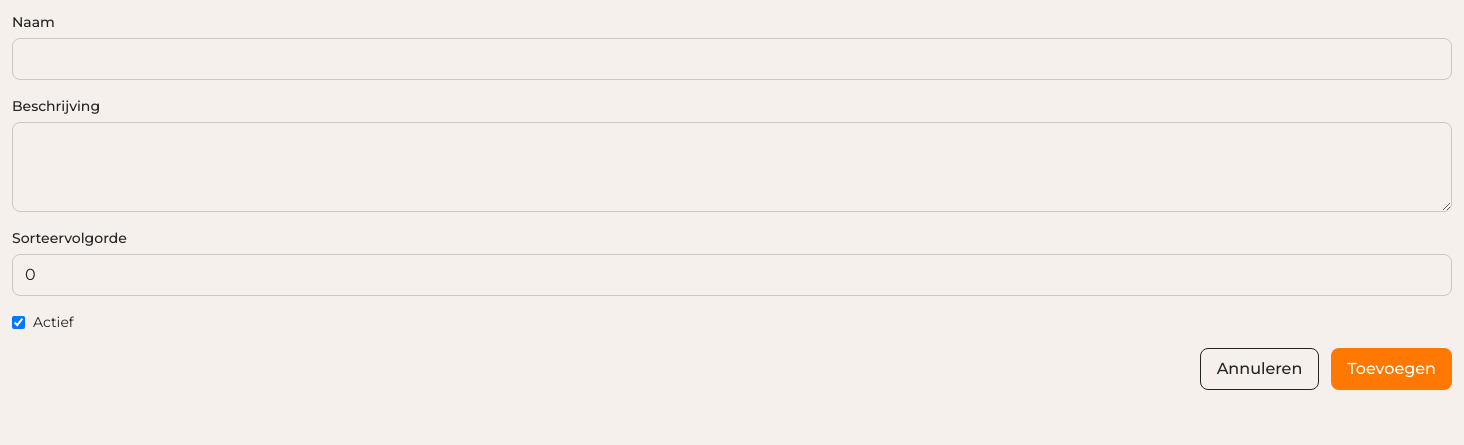
CategoryForm › validates name required
The image size is (1464, 445).
Click the button "Toevoegen".
click(1392, 369)  # box [1331,348,1452,390]
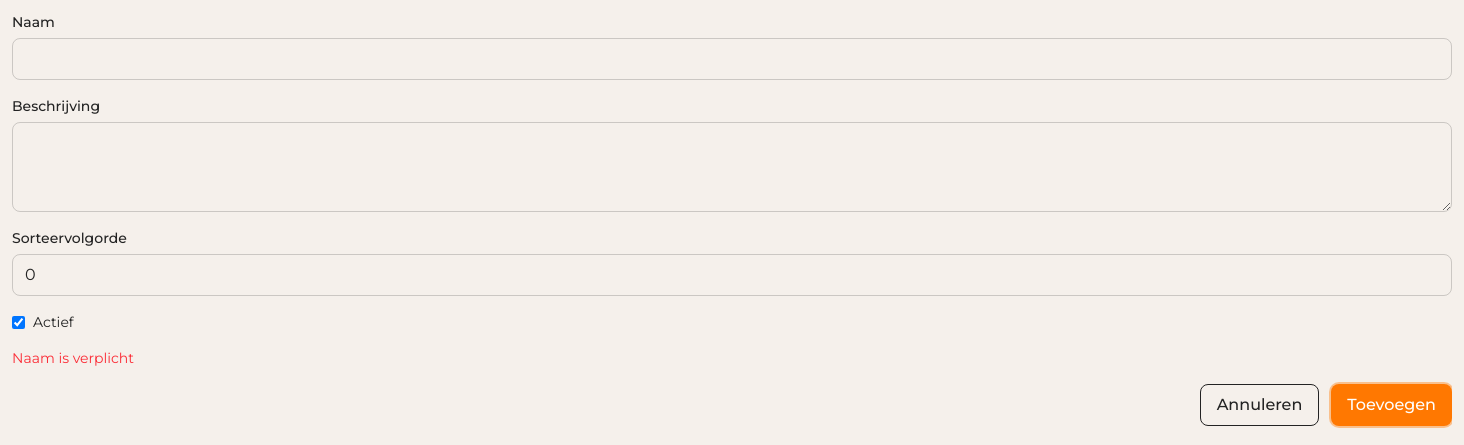
Result: the text "Naam is verplicht" is shown at [12,349,134,367]
